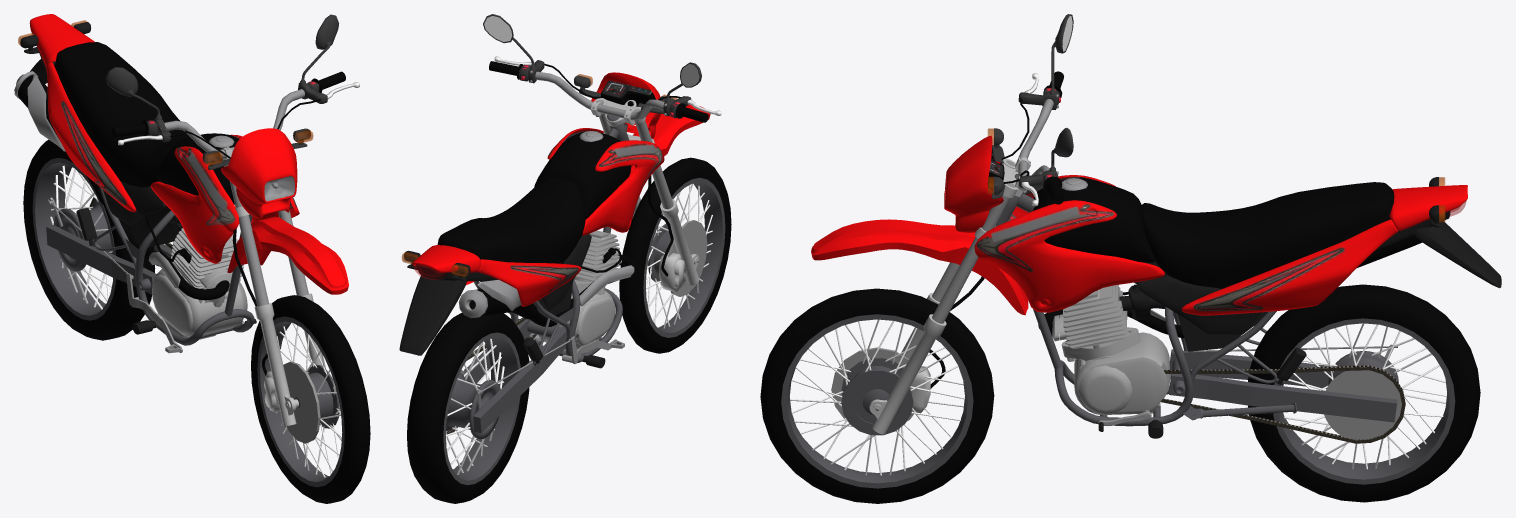
3 views of the same model, side by side, from view 1: azimuth 30°, elevation 25°; view 2: azimuth 150°, elevation 25°; view 3: azimuth 270°, elevation 25° (orthographic). The views are drawn at different scales.
Parts seen in each view (by area): view 1: body, wheel_f, wheel_r; view 2: body, wheel_r, wheel_f; view 3: body, wheel_r, wheel_f.
Part boxes in pixels (x1=…): body: x1=14, y1=14, x2=359, y2=477; wheel_f: x1=251, y1=295, x2=370, y2=503; wheel_r: x1=23, y1=139, x2=155, y2=340; body: x1=399, y1=14, x2=721, y2=474; wheel_r: x1=407, y1=313, x2=529, y2=503; wheel_f: x1=619, y1=157, x2=731, y2=353; body: x1=790, y1=14, x2=1501, y2=475; wheel_r: x1=1248, y1=284, x2=1480, y2=502; wheel_f: x1=760, y1=288, x2=994, y2=503.
Bounding box in the file's own units: 0.8432 × 1.31 × 2.04.
Materials: 16 (6 with a texture image).
